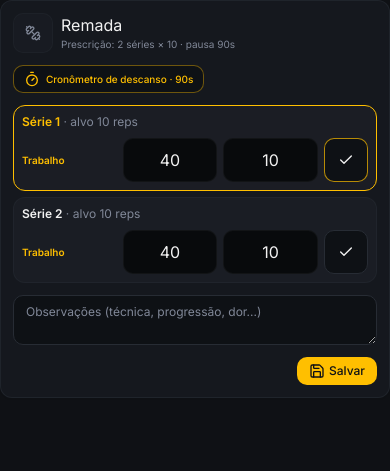
Modo Treino admin — exercício normal no formato do grupo › exercício sem tipos usa a pausa do plano (90s), sem rótulo de tipo
Click the button named "Confirmar série 1 Principal": (346, 160) [324,138,368,182]
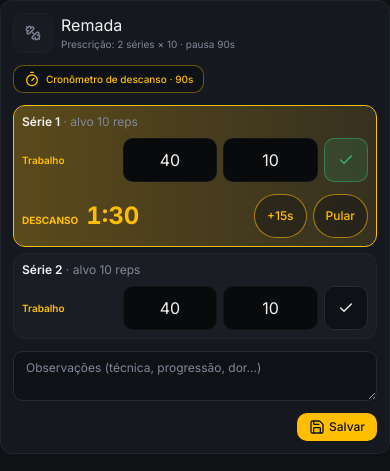
Expected: the text "DESCANSO" is shown, [22,214,78,226]
